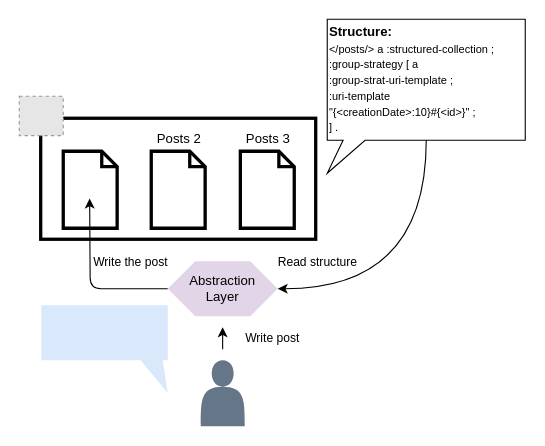
Image size: 545x446. Some labels were removed from this diagram. Grey dashed boxes stand in for pictures. The shapes that lost their labels are listed below. From the top down, each one's box as (x1, y1, x2, y2) in pixels, then its label:
(61, 149, 118, 229): Posts 1
(41, 305, 167, 393): Insert Data { <> a ns1:Post ; ... }
